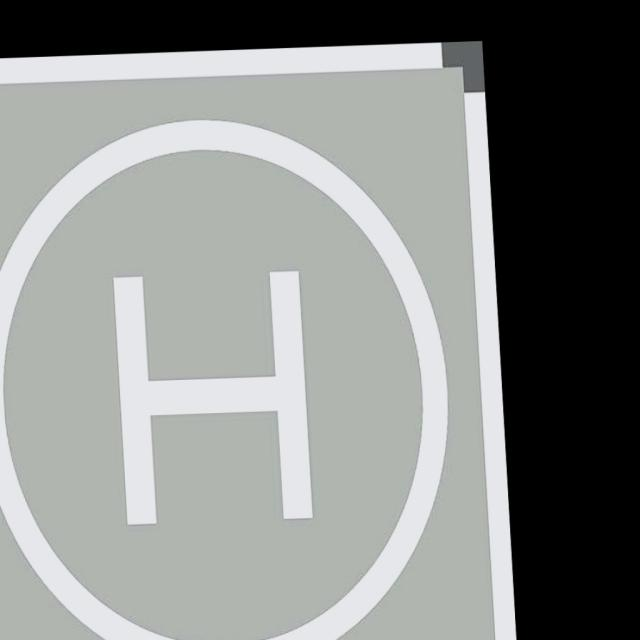helipad: (0, 112, 465, 639)
